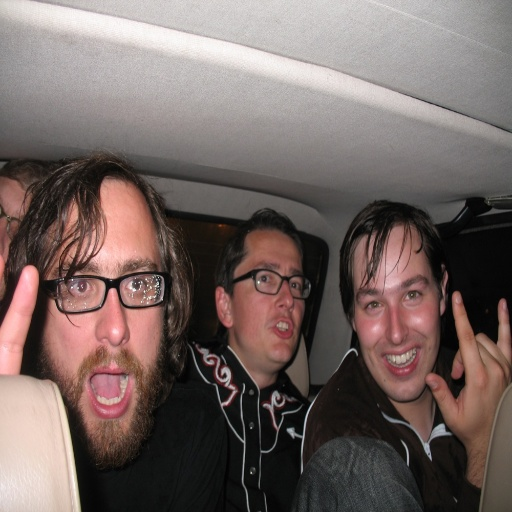hand: (430, 298, 508, 464), (0, 256, 40, 376)
